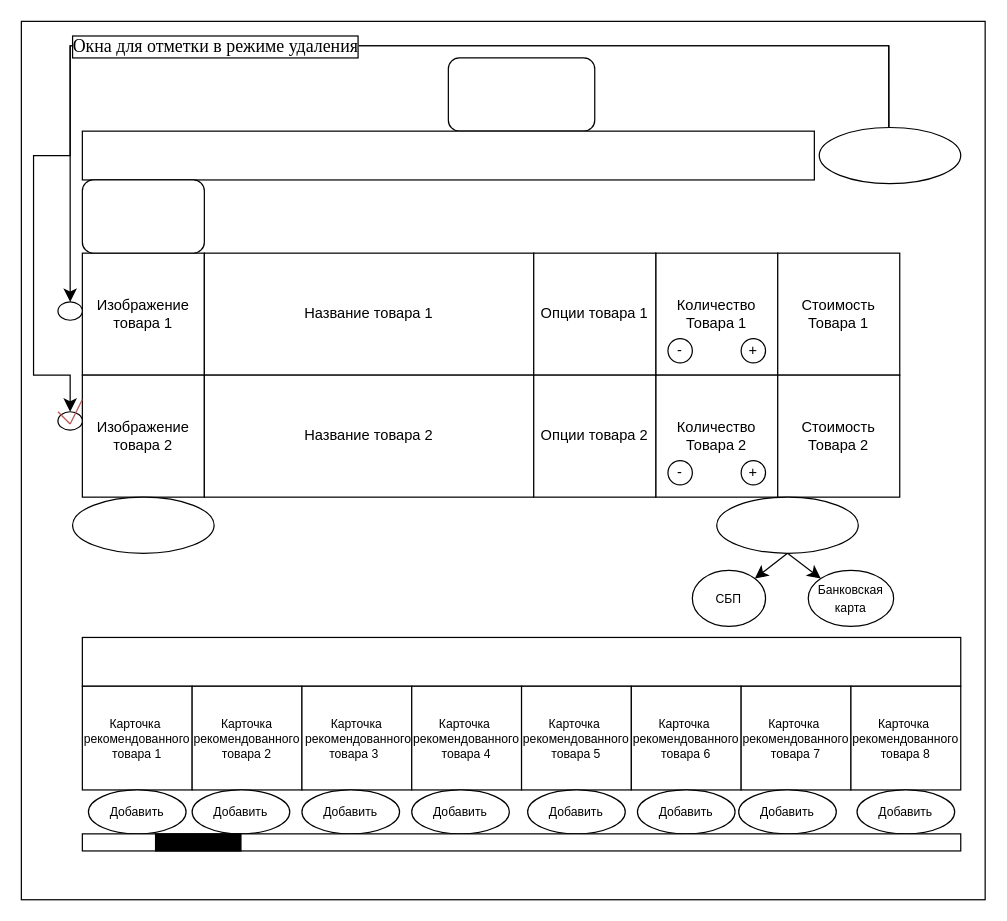
Image size: 1007x921. Some labels were removed from this diagram. Here are the shapes that lost their labels. From the top down, the box of each, then its label:
(447, 57, 595, 131): Корзина
(81, 130, 814, 180): Товары
(818, 126, 961, 184): Удалить товар
(81, 179, 204, 253): Лого продавца
(71, 496, 214, 553): Добавить в желаемое
(716, 496, 858, 553): Оплатить
(81, 636, 961, 686): Рекомендации
(81, 833, 961, 851): Ползунок для прокрутки рекомендуемых товаров
